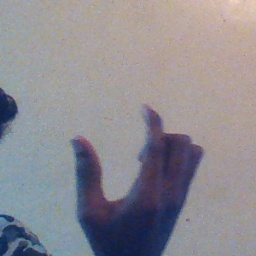U: (65, 99, 205, 251)
